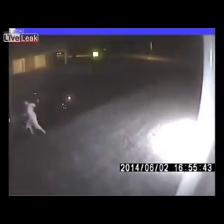person: (25, 101, 46, 134)
